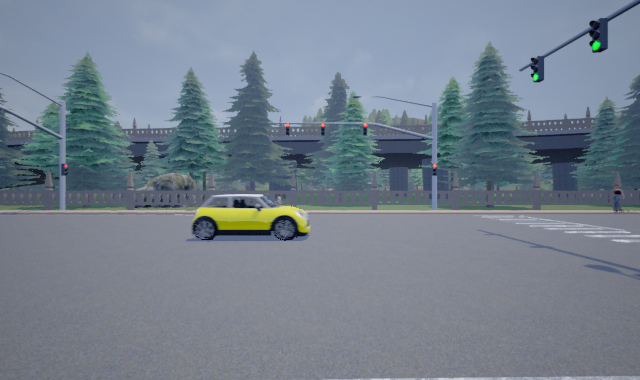pedestrian: (609, 183, 624, 214), (273, 191, 285, 212)
traffic_light: (586, 18, 609, 54), (531, 54, 544, 83), (62, 162, 69, 176), (431, 162, 438, 176), (362, 121, 368, 137), (285, 121, 291, 135), (320, 122, 326, 136)
vehicle: (190, 193, 310, 240)
